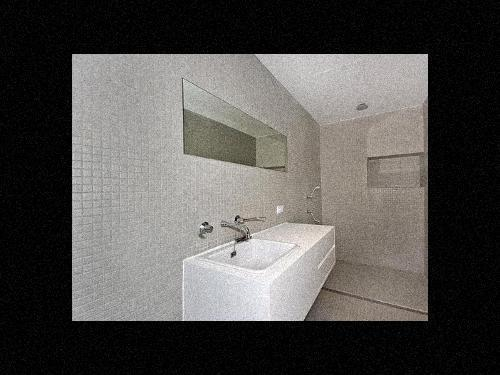Ducha: (301, 116, 427, 315)
Lavamanos: (200, 210, 301, 280)
